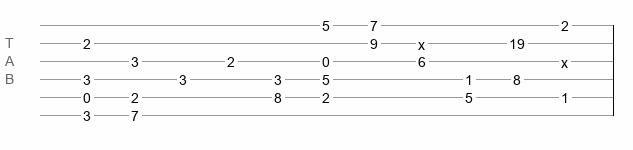0: (83, 90, 91, 100), (322, 54, 330, 64)
1: (465, 72, 473, 82), (561, 90, 569, 100)
19: (509, 36, 525, 46)
2: (83, 36, 91, 46), (131, 90, 139, 100), (227, 54, 235, 64), (322, 90, 330, 100), (561, 18, 569, 28)
3: (83, 72, 91, 82), (83, 108, 91, 118), (131, 54, 139, 64), (179, 72, 187, 82), (274, 72, 282, 82)
5: (322, 18, 330, 28), (322, 72, 330, 82), (465, 90, 473, 100)
6: (418, 54, 426, 64)
7: (131, 108, 139, 118), (370, 18, 378, 28)
8: (274, 90, 282, 100), (513, 72, 521, 82)
9: (370, 36, 378, 46)
x: (418, 37, 425, 45), (561, 55, 568, 63)
